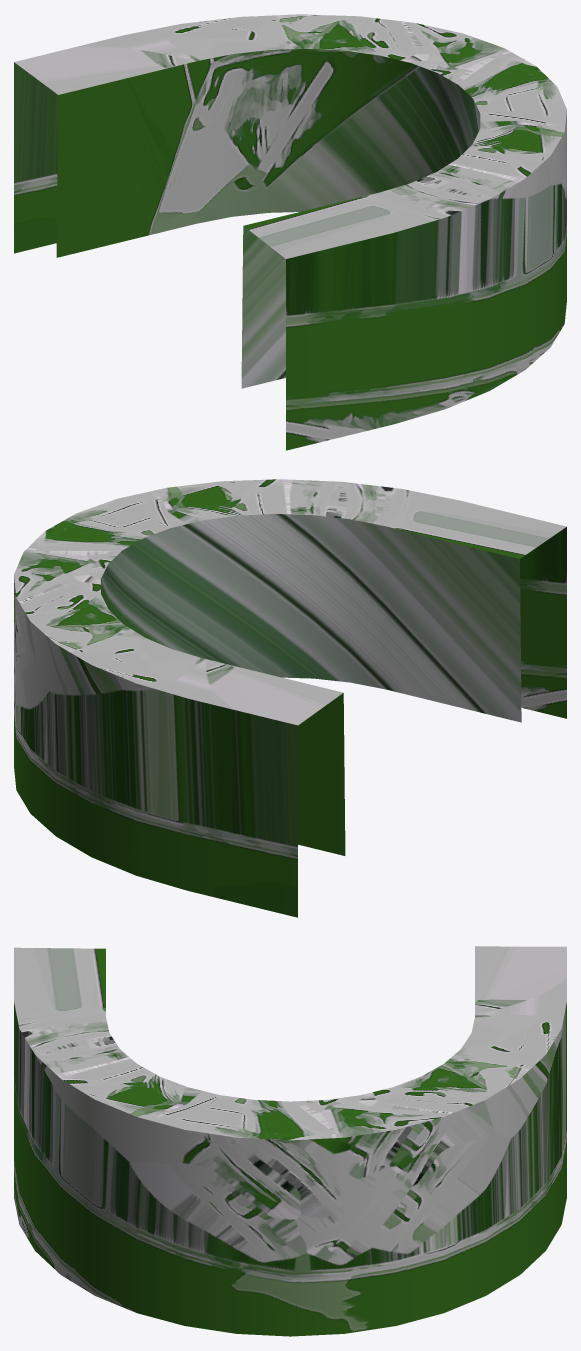
The model's file is bar1.fbx.
The picture shows the model from 3 angles, top to bottom: view 1: azimuth 30°, elevation 25°; view 2: azimuth 150°, elevation 25°; view 3: azimuth 270°, elevation 25°; orthographic projection. The views are drawn at different scales.
Parts seen in each view (by area): view 1: Cylinder.045; view 2: Cylinder.045; view 3: Cylinder.045.
Part boxes in pixels (x1=…): Cylinder.045: x1=14, y1=14, x2=566, y2=450; Cylinder.045: x1=14, y1=479, x2=566, y2=917; Cylinder.045: x1=14, y1=946, x2=566, y2=1336.
Bounding box in the file's own units: 913 × 429 × 1096.
